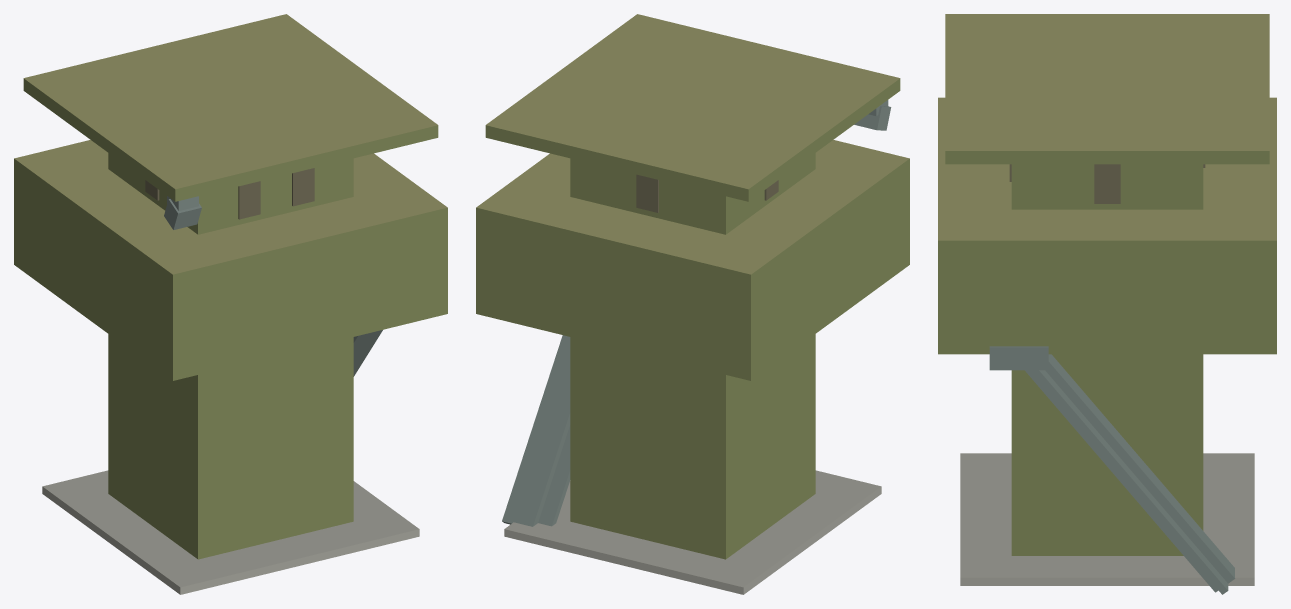
The model's file is SM_TorretaVigia_v0_LOD1.fbx.
The picture shows the model from 3 angles, left to right: view 1: azimuth 30°, elevation 25°; view 2: azimuth 150°, elevation 25°; view 3: azimuth 270°, elevation 25°; orthographic projection. The views are drawn at different scales.
Parts seen in each view (by area): view 1: SM_torreta_vigia_v0_LOD1; view 2: SM_torreta_vigia_v0_LOD1; view 3: SM_torreta_vigia_v0_LOD1.
Boxes of the visible parts, box(x1,y1,x2,y2) form: SM_torreta_vigia_v0_LOD1: box(14, 14, 447, 594); SM_torreta_vigia_v0_LOD1: box(476, 14, 909, 594); SM_torreta_vigia_v0_LOD1: box(938, 14, 1276, 594).
Size of the model in its own units: 4.65 by 6.7 by 4.6.
